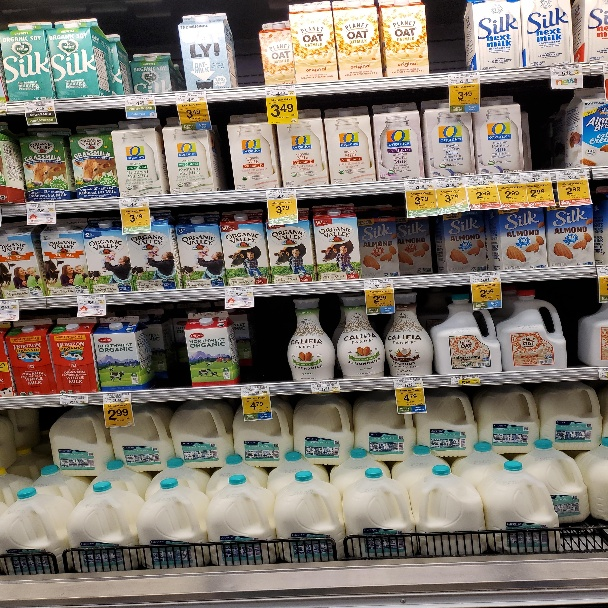All PRICE TAGS: (551, 63, 582, 77), (522, 170, 554, 182), (449, 72, 479, 84), (556, 169, 587, 180), (124, 95, 155, 106), (102, 392, 132, 403), (24, 100, 54, 111), (176, 92, 206, 103), (241, 384, 270, 395), (266, 86, 295, 97), (27, 202, 55, 213), (311, 381, 341, 391), (363, 279, 393, 289), (266, 189, 296, 199), (466, 175, 493, 186), (451, 375, 480, 385), (393, 377, 422, 387), (470, 272, 499, 282), (433, 177, 461, 187), (495, 172, 520, 183), (119, 198, 149, 207), (224, 287, 253, 296), (405, 179, 431, 189), (78, 294, 106, 303), (61, 395, 88, 404), (0, 300, 19, 311)
